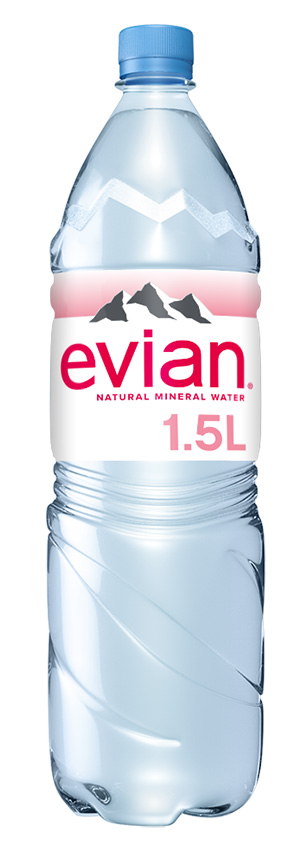PlasticBottle: (46, 30, 294, 830)
